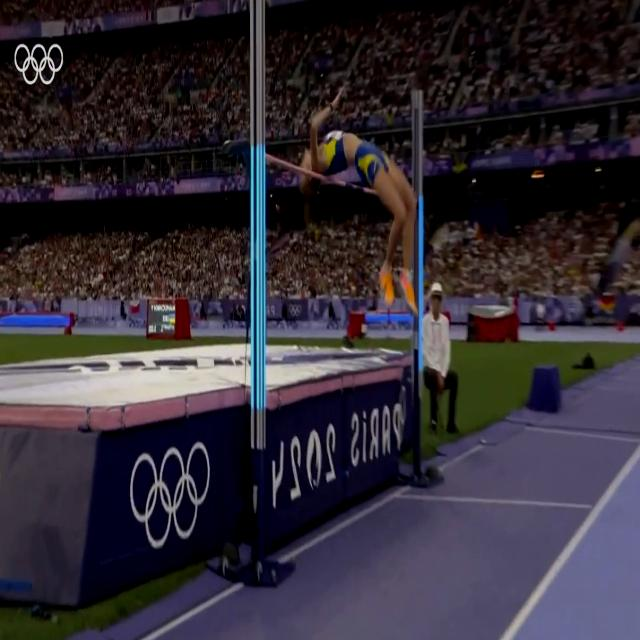jump: (298, 87, 417, 313)
